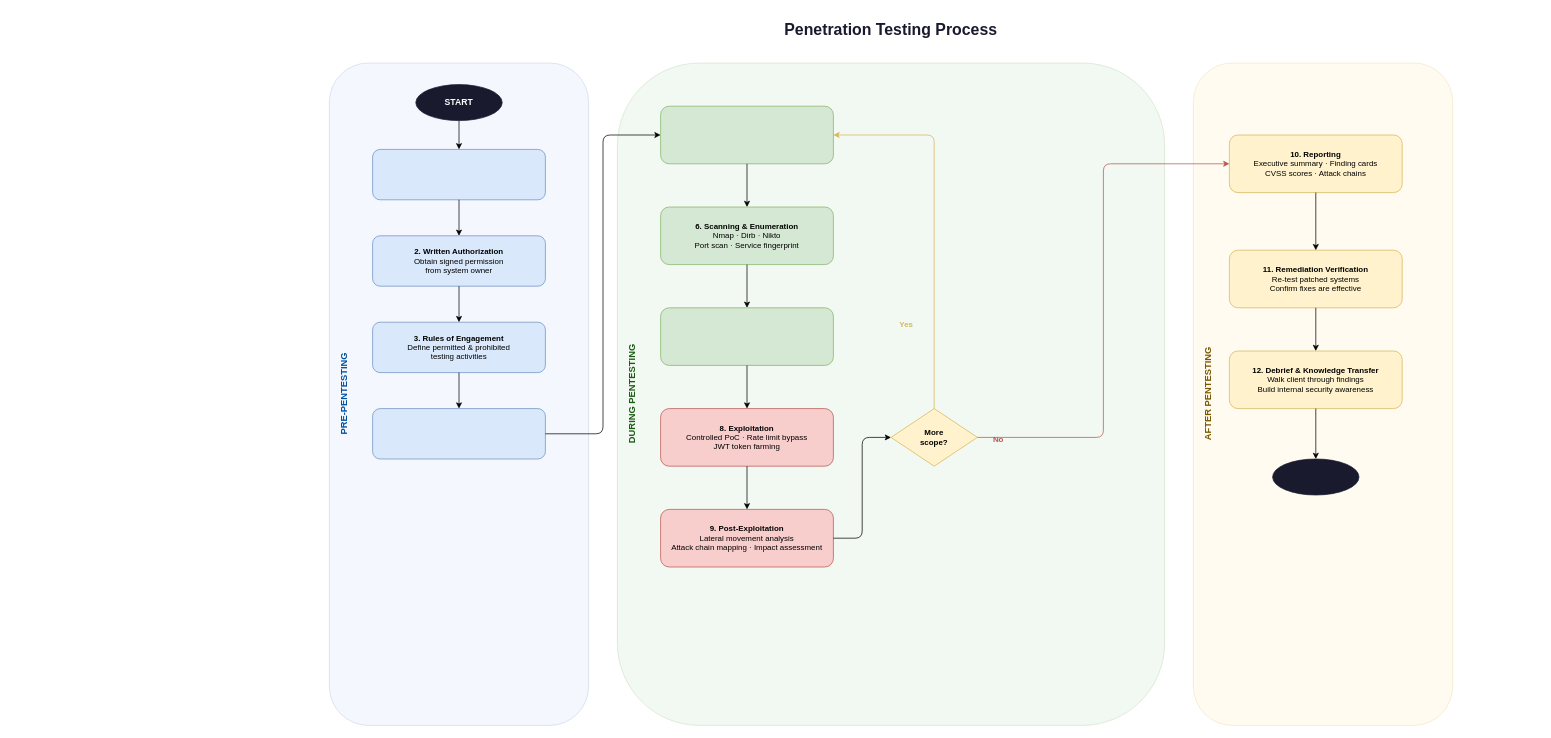
The diagram is 1551 pixels wide and 738 high, and some of its shapes have lost their labels. The shapes that lost their labels are listed below. From the top down, each one's box as (x1, y1, x2, y2) in pixels, then its label:
(660, 105, 833, 164): 5. Reconnaissance WHOIS · DNS · OSINT Subdomain enum · JS bundle analysis
(372, 149, 545, 200): 1. Scope Definition Define target systems, IP ranges, and domains
(660, 307, 833, 365): 7. Vulnerability Assessment Manual testing · OWASP Top 10 CVSS v3.1 scoring
(372, 408, 545, 459): 4. Environment Setup Configure tools, proxies, note-taking systems
(1272, 458, 1359, 495): END
